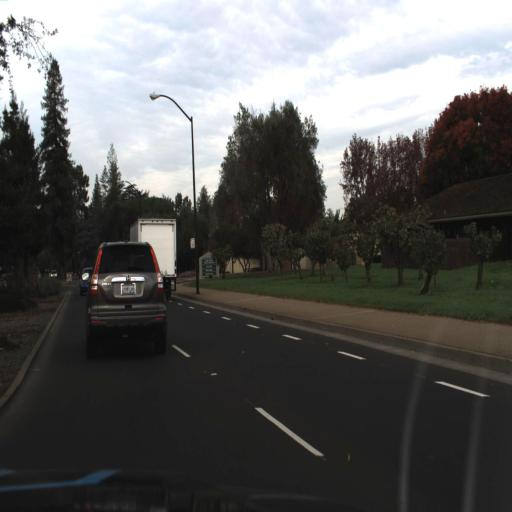car: (75, 236, 173, 358), (76, 259, 97, 299)
truck: (126, 212, 178, 301)
